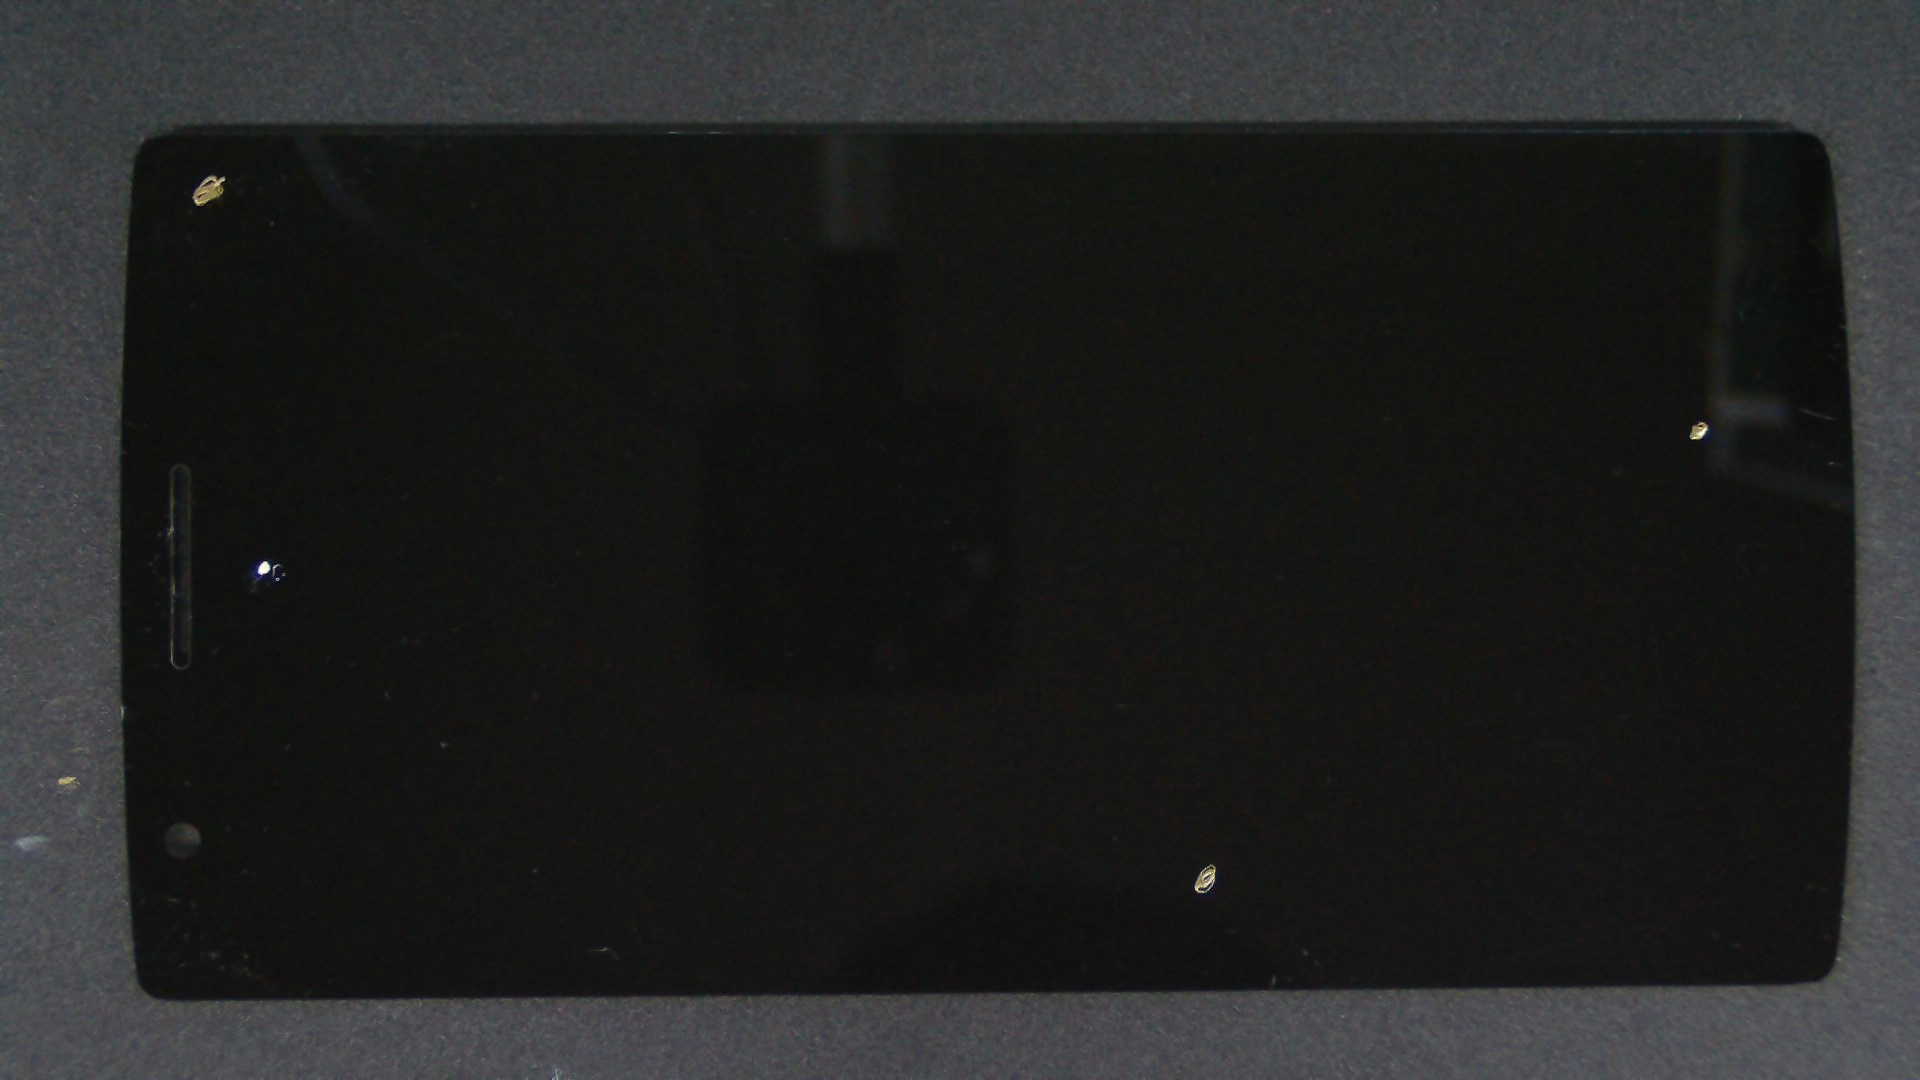oil: (605, 431, 1815, 1080), (849, 210, 1920, 630), (132, 280, 396, 839), (108, 86, 320, 260)
